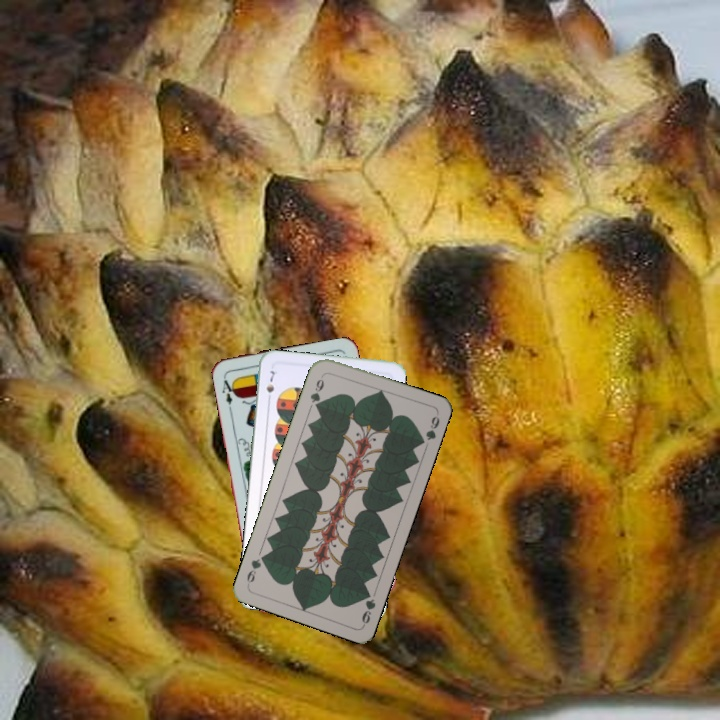EA: (218, 372, 239, 407)
G9: (358, 586, 378, 628), (306, 375, 327, 411)
S7: (262, 366, 277, 405)
